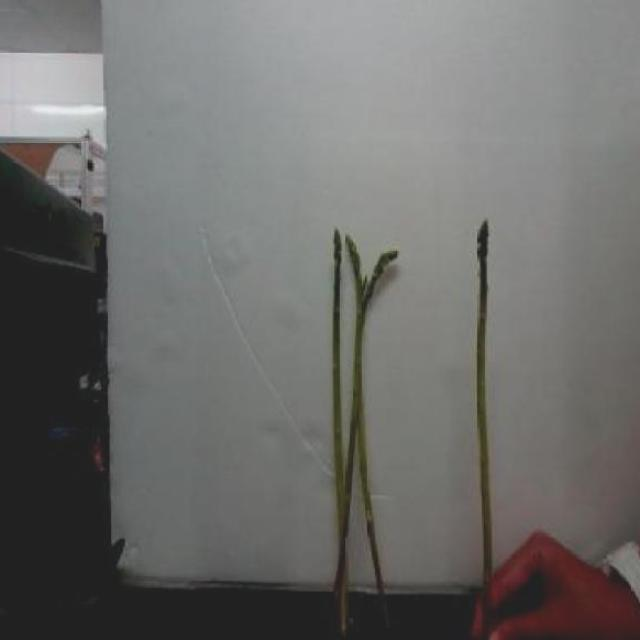aspargus: (477, 221, 497, 584)
